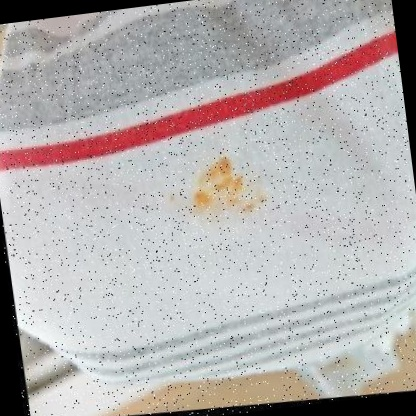kimchi: (186, 156, 273, 225)
